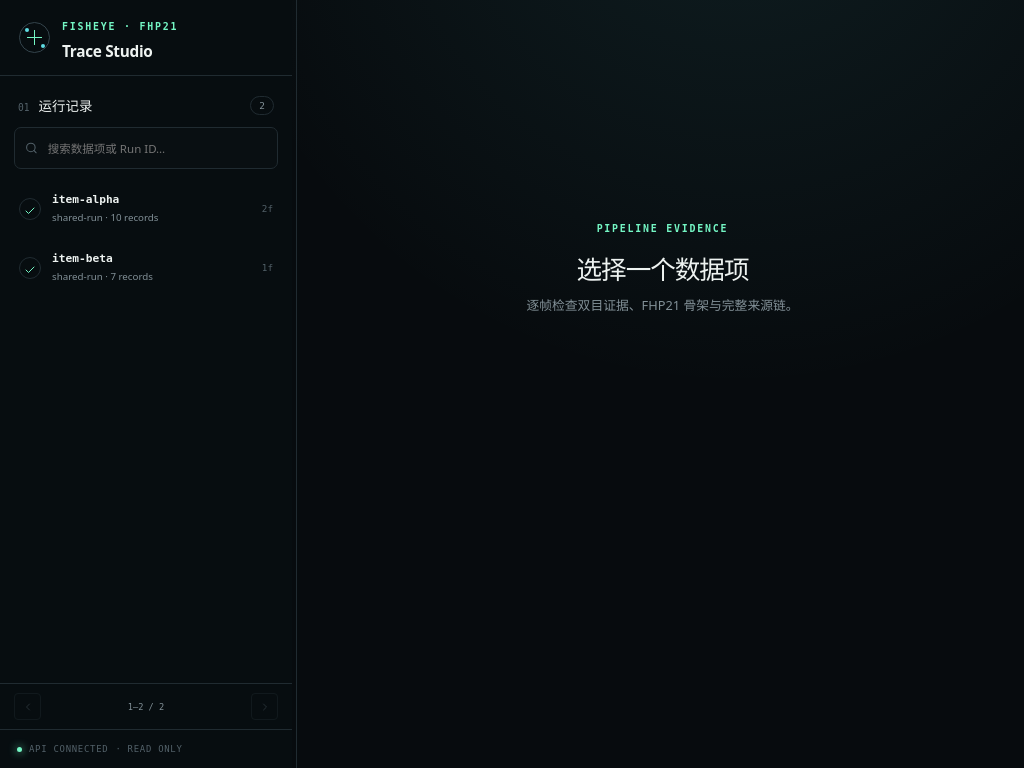
Scenario: switching between colliding run IDs uses run_key and clears run-scoped filters
Click the button "item-alpha shared-run · 10 records 2f" at (146, 208), box x1=9 y1=181 x2=283 y2=236
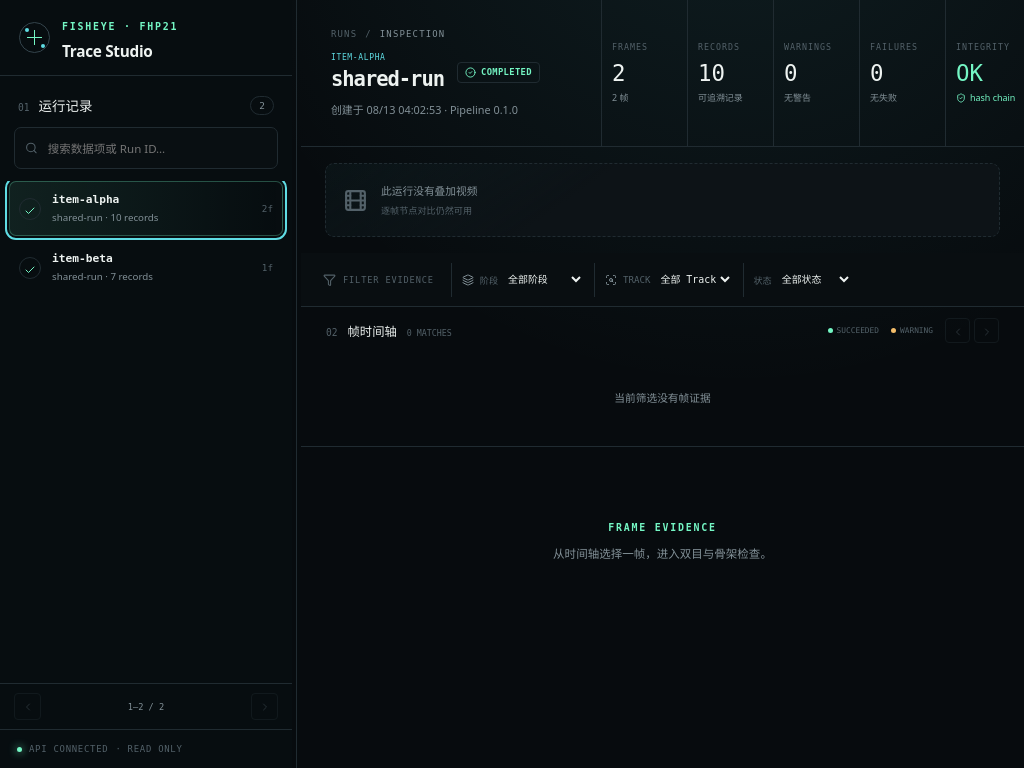
expect the text "item-alpha" below "RUNS" is shown: met, box x1=331 y1=53 x2=386 y2=62
Select "RAW_FUSION" in the dropdown labelled "阶段" at (544, 280), box x1=504 y1=273 x2=584 y2=286
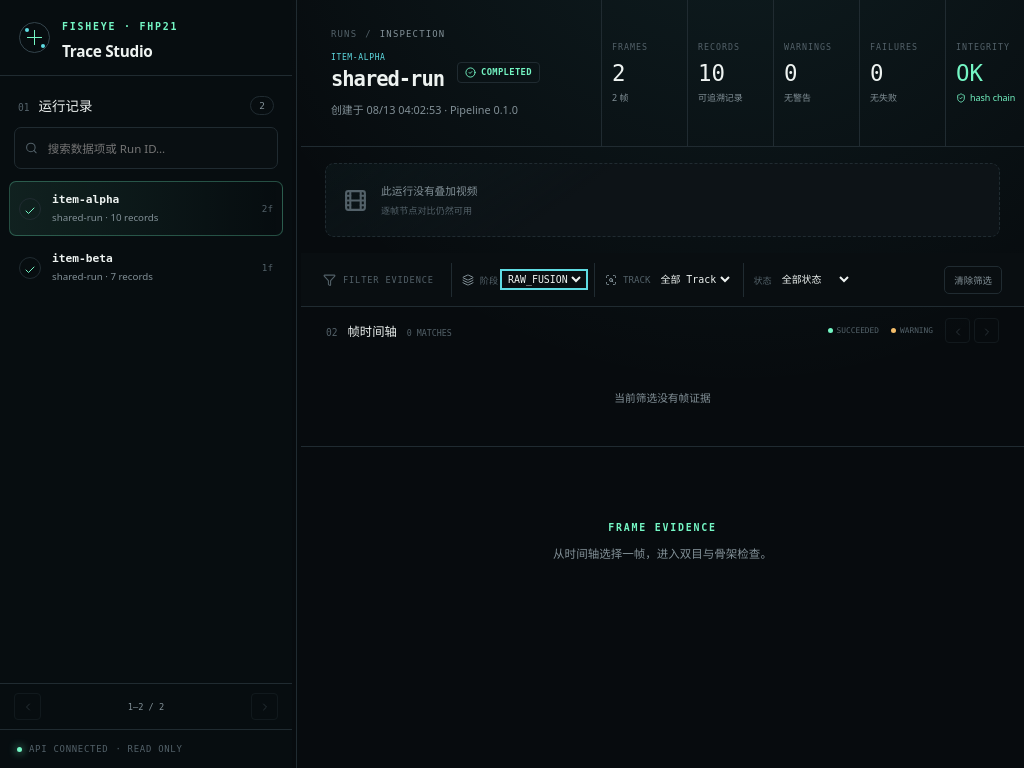
Select "hand-0" in the dropdown labelled "Track" at (694, 280), box x1=656 y1=273 x2=732 y2=286
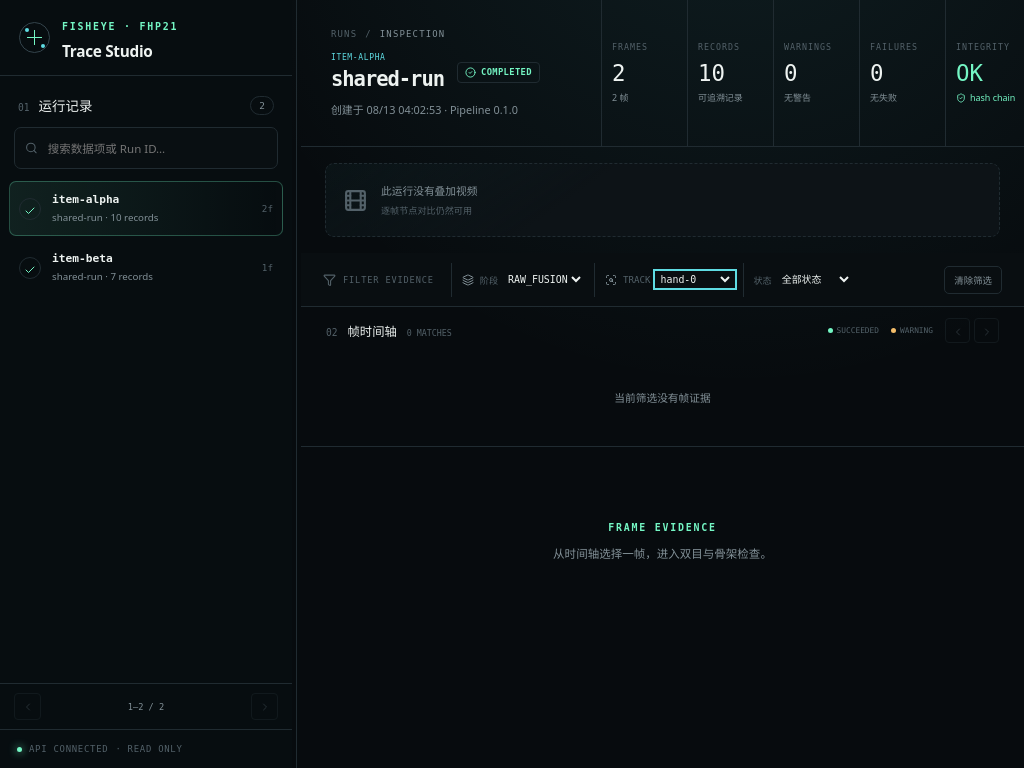
Select "WARNING" in the dropdown labelled "状态" at (815, 280), box x1=778 y1=273 x2=852 y2=286
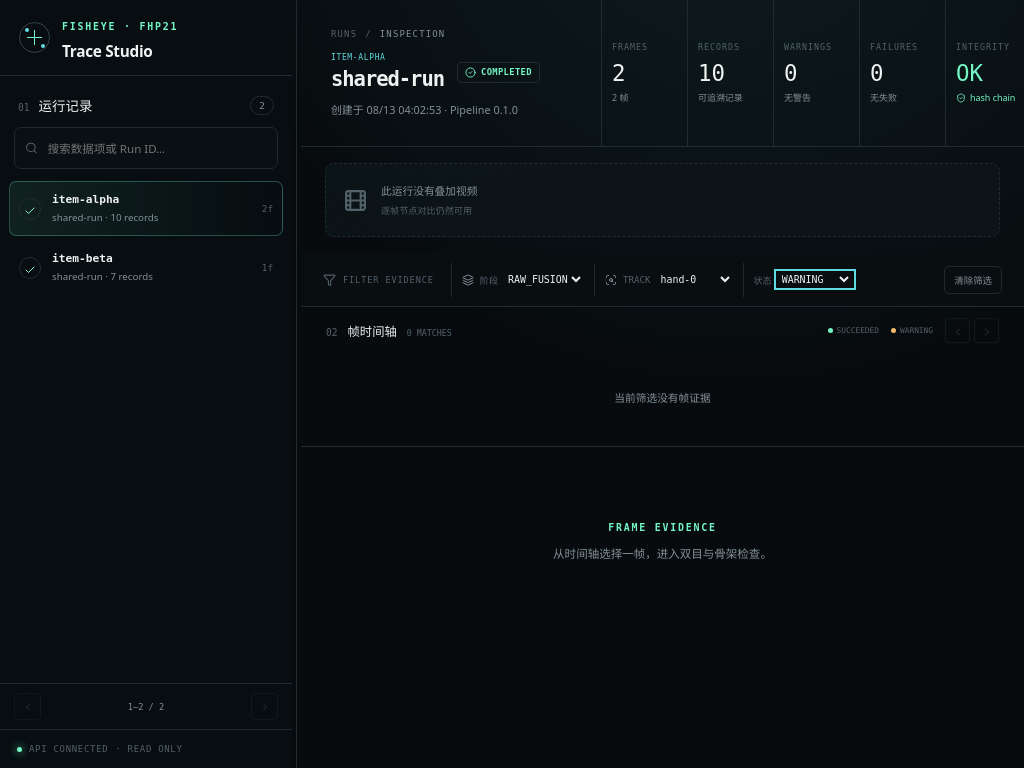
Click the button "item-beta shared-run · 7 records 1f" at (146, 268), box x1=9 y1=240 x2=283 y2=295
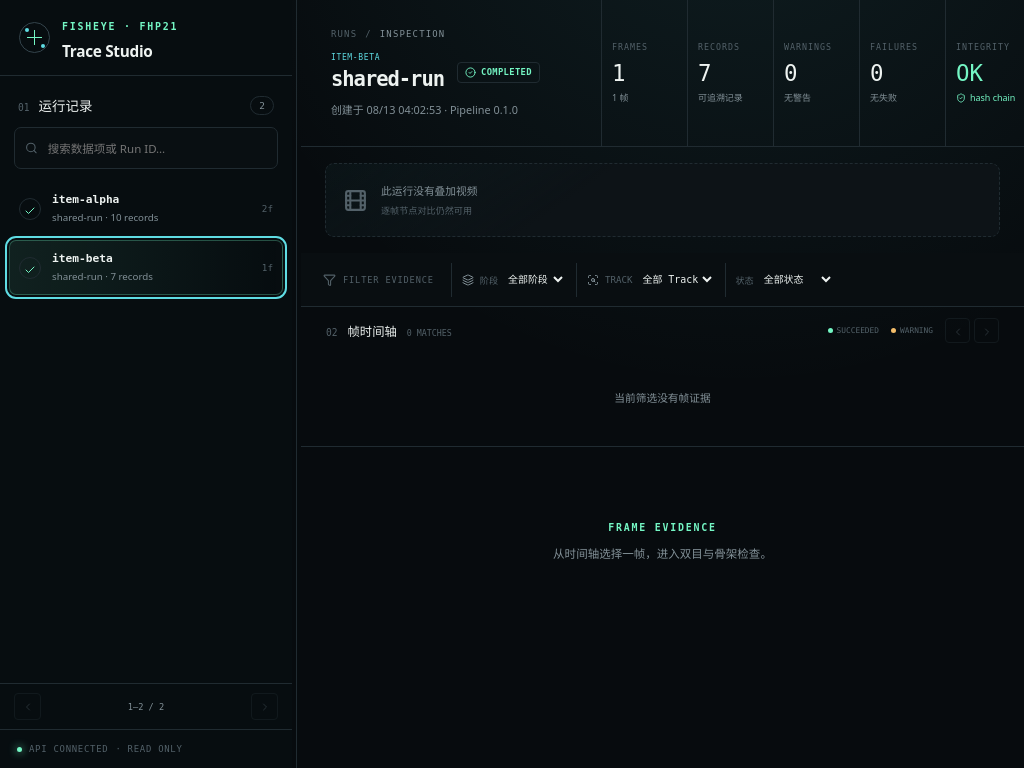
expect the text "item-beta" below "RUNS" is shown: met, box x1=331 y1=53 x2=380 y2=62
